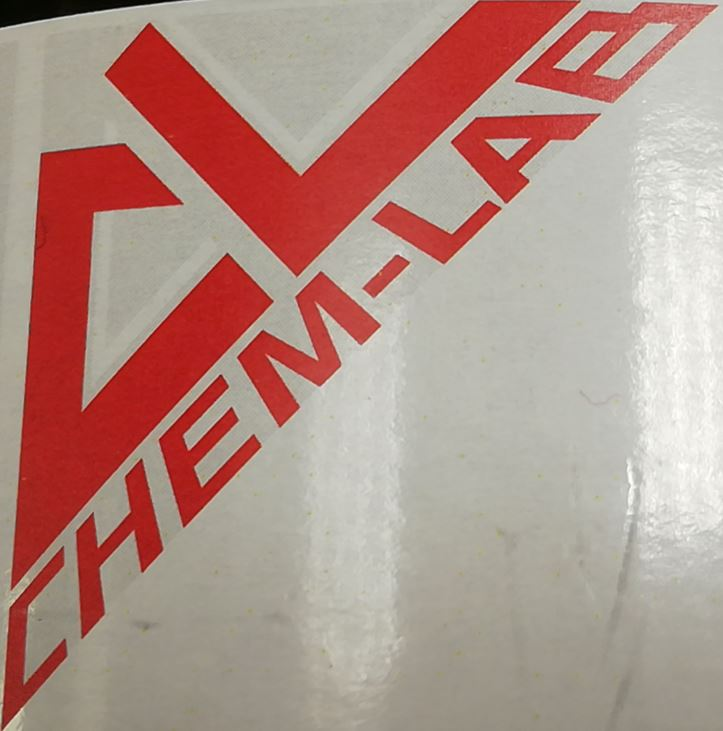ChemLab: (1, 1, 720, 728)
